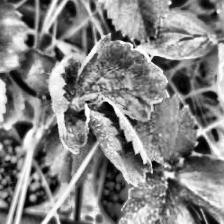Powdery Mildew Leaf: (69, 32, 170, 121), (87, 102, 153, 187), (48, 55, 91, 155)
